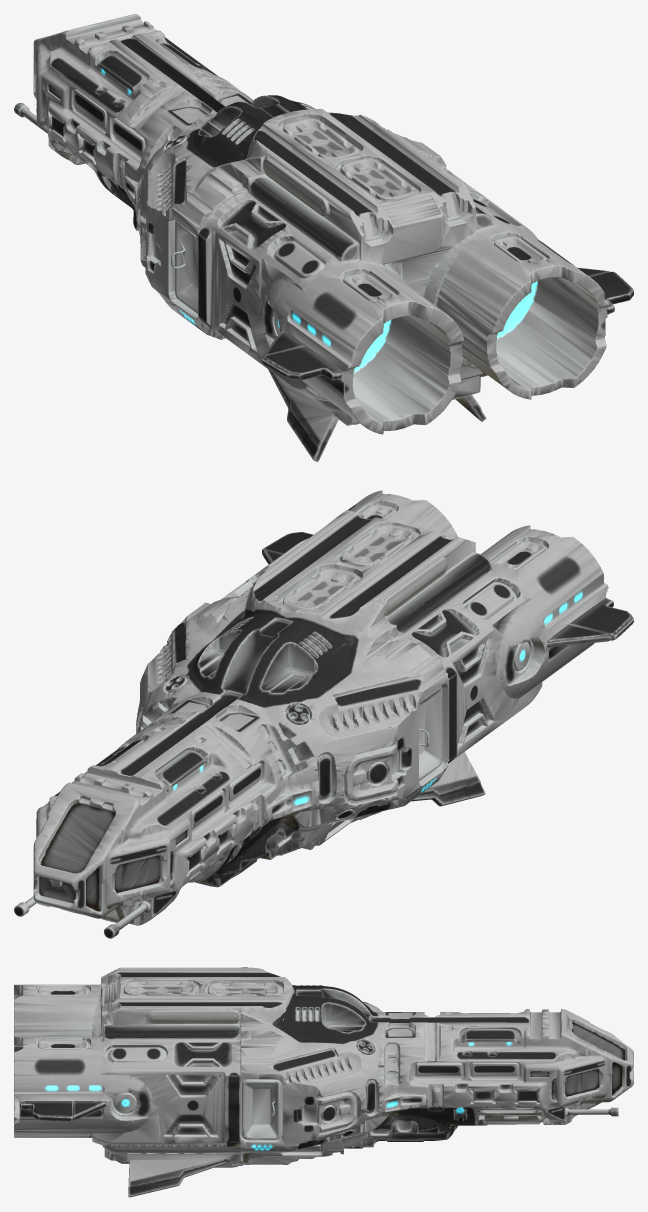
The model's file is artillery-dreadnought.glb.
The picture shows the model from 3 angles, top to bottom: view 1: azimuth 30°, elevation 25°; view 2: azimuth 150°, elevation 25°; view 3: azimuth 270°, elevation 25°; orthographic projection. The views are drawn at different scales.
Parts seen in each view (by area): view 1: Layer_1; view 2: Layer_1; view 3: Layer_1.
Boxes of the visible parts, x1=… form: Layer_1: x1=14, y1=14, x2=633, y2=461; Layer_1: x1=14, y1=490, x2=633, y2=938; Layer_1: x1=14, y1=967, x2=633, y2=1197.
Size of the model in its own units: 2.04 by 1.36 by 4.23.
Materials: 1 (1 with a texture image).
